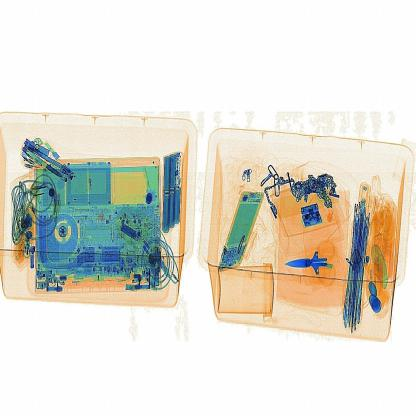gun: (278, 231, 356, 307)
